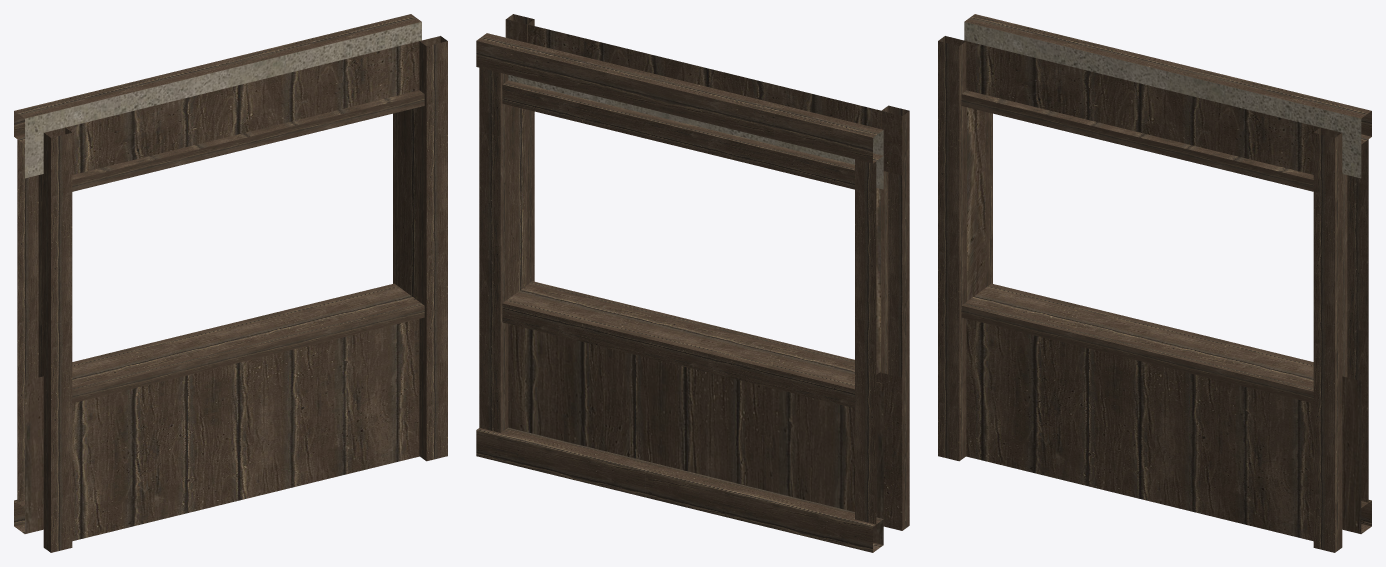
The model's file is ARC1010285.fbx.
The picture shows the model from 3 angles, left to right: view 1: azimuth 30°, elevation 25°; view 2: azimuth 150°, elevation 25°; view 3: azimuth 330°, elevation 25°; orthographic projection.
Parts seen in each view (by area): view 1: smARC1010285; view 2: smARC1010285; view 3: smARC1010285.
Part boxes in pixels (bbox=[...]): smARC1010285: bbox=[14, 14, 447, 552]; smARC1010285: bbox=[476, 14, 909, 552]; smARC1010285: bbox=[938, 14, 1371, 552].
Size of the model in its own units: 268 by 268 by 43.17.
Materials: 1 (1 with a texture image).
